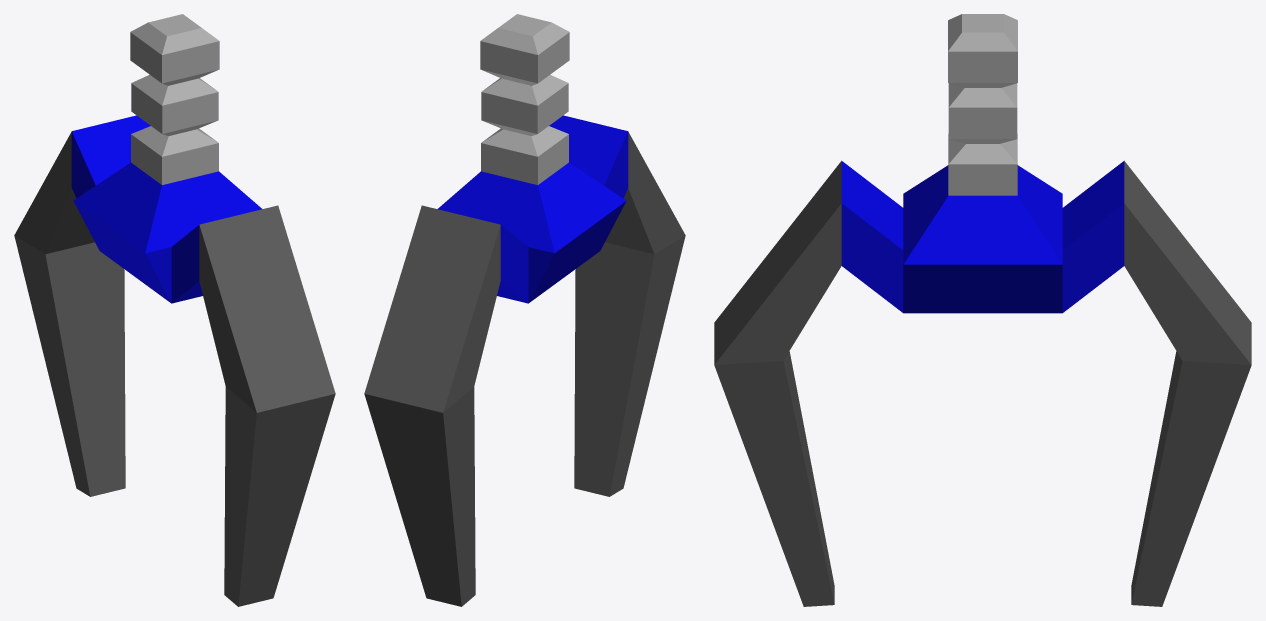
Rendered from GrabboTurretBottom.fbx.
3 views of the same model, side by side, from view 1: azimuth 30°, elevation 25°; view 2: azimuth 150°, elevation 25°; view 3: azimuth 270°, elevation 25° (orthographic). The views are drawn at different scales.
Parts seen in each view (by area): view 1: pCube1; view 2: pCube1; view 3: pCube1.
Boxes of the visible parts, x1=… form: pCube1: x1=14, y1=14, x2=335, y2=606; pCube1: x1=364, y1=14, x2=685, y2=606; pCube1: x1=714, y1=14, x2=1251, y2=606.
Bounding box in the file's own units: 2.43 × 9.14 × 7.76.
